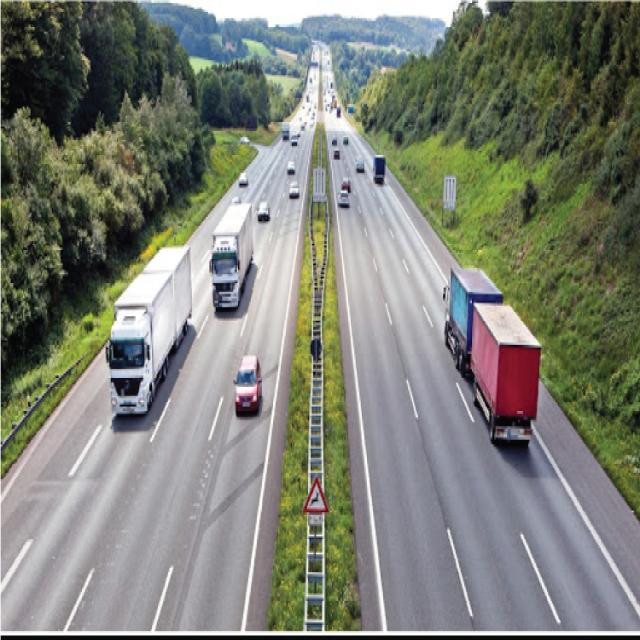ben: (441, 261, 545, 454), (102, 239, 196, 424), (206, 195, 256, 318)
car: (230, 348, 265, 422), (336, 185, 352, 212), (257, 194, 271, 224), (340, 172, 354, 196), (288, 179, 301, 201), (286, 156, 297, 180), (356, 152, 366, 176), (238, 168, 249, 189), (332, 144, 343, 162)
